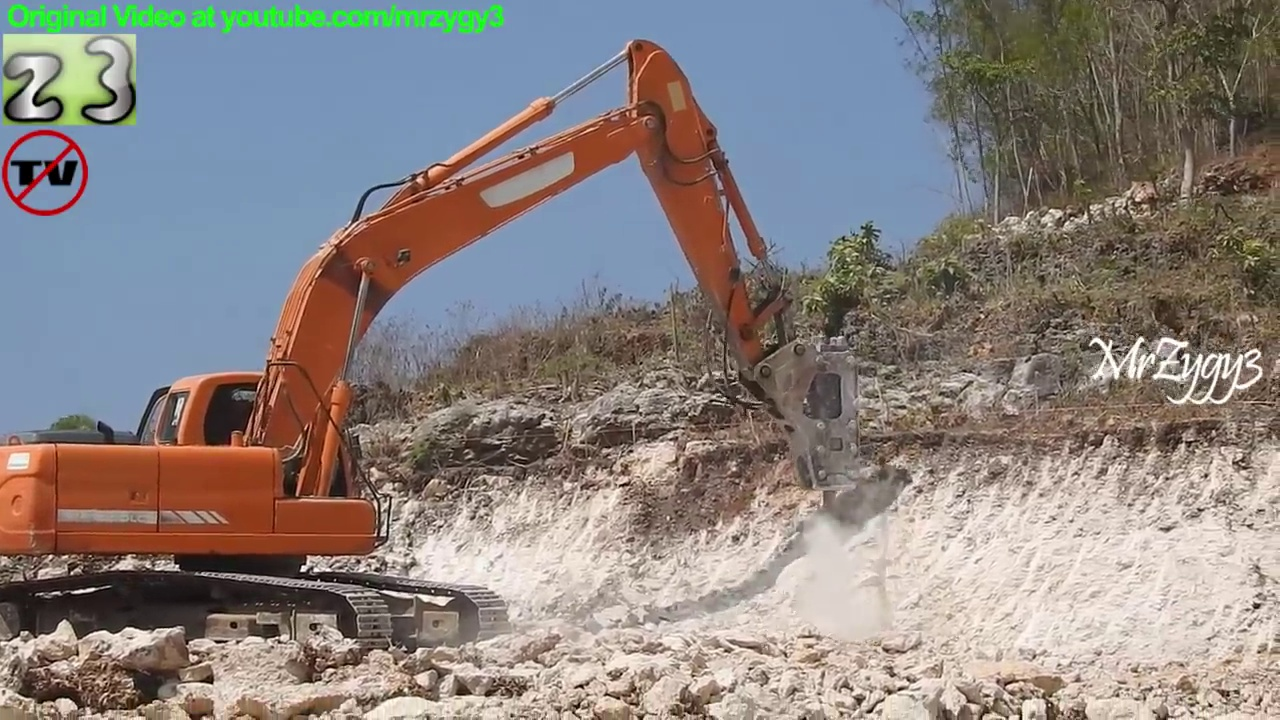excavator breaker: (2, 36, 865, 681)
